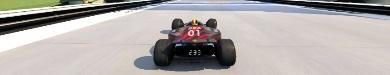Car: (152, 18, 236, 66)
